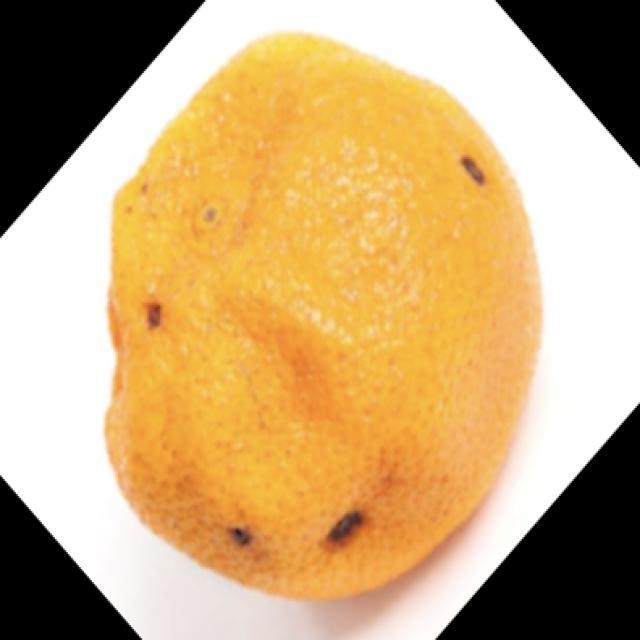sedikit-busuk: (106, 34, 541, 595)
